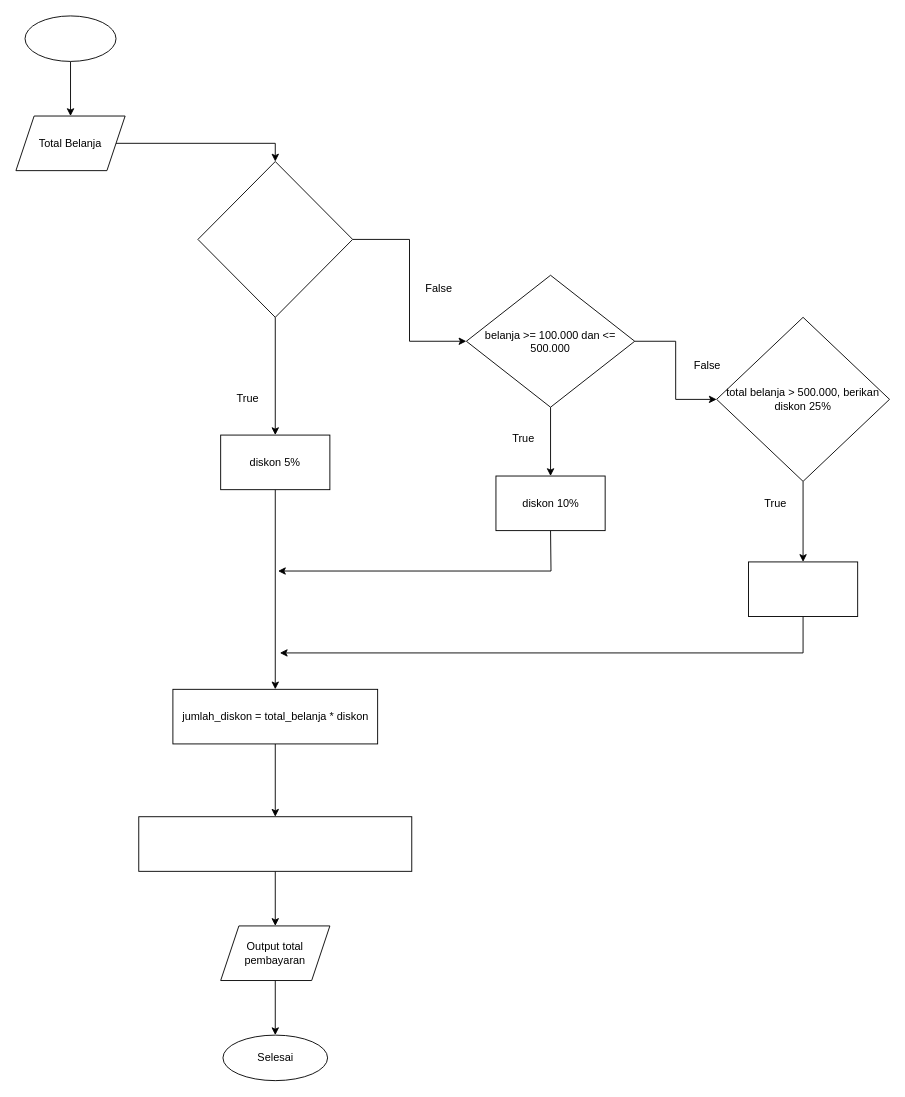
Image size: 905x1097. Some labels were removed from this diagram. Here are the shapes that lost their labels. From the top down, the centre of each, then its label:
At pixel 70 38: "Mulai".
At pixel 275 239: "belanja >= 50.000 dan < 100.000".
At pixel 803 589: "diskon 25%".
At pixel 275 843: "total_pembayaran = total_belanja - jumlah_diskon".
